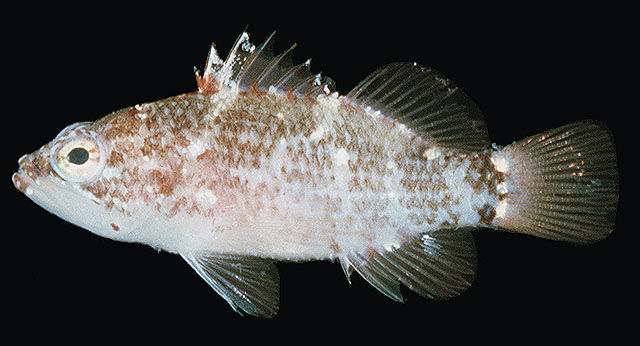fish: (11, 25, 619, 319)
